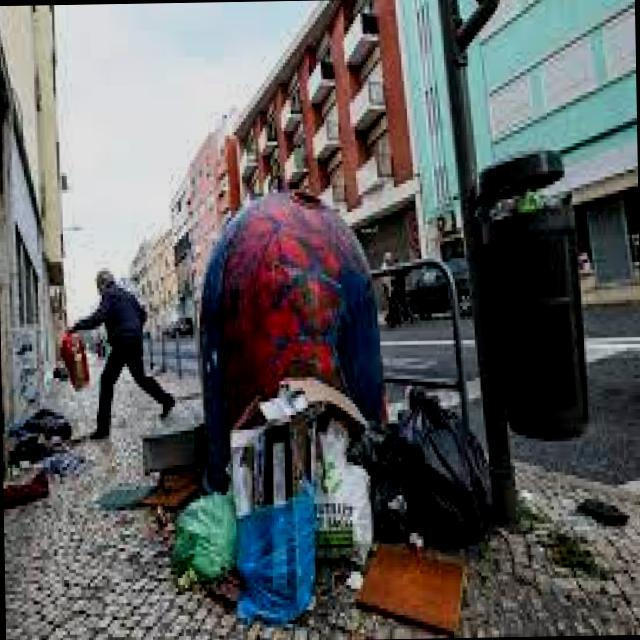garbage: (125, 390, 497, 610)
